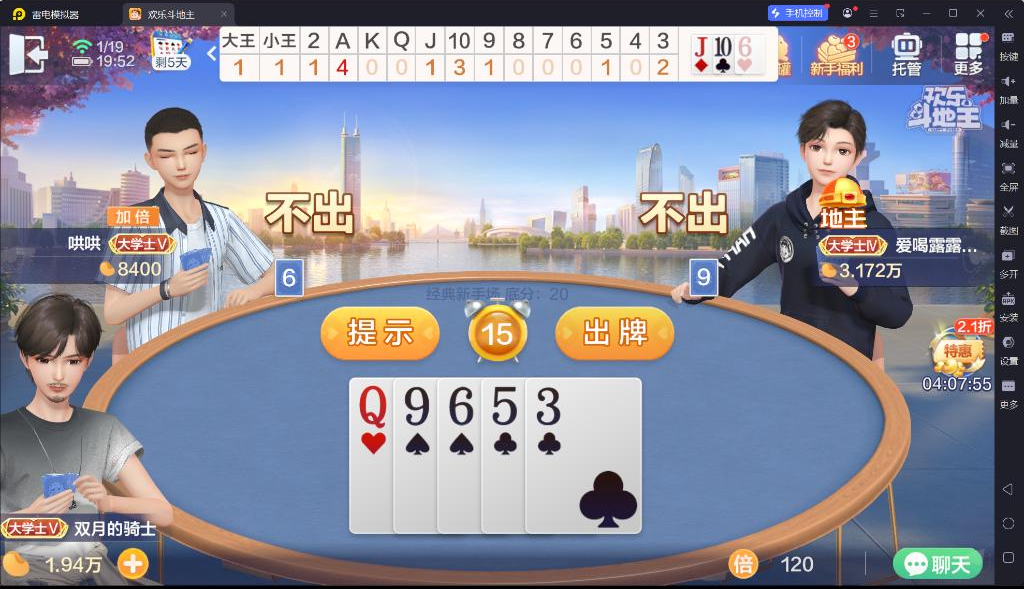J: (692, 36, 709, 58)
Q: (356, 383, 387, 429)
five: (489, 383, 519, 429)
nine: (402, 385, 430, 428)
six: (445, 385, 475, 428), (737, 36, 754, 58)
ten: (713, 36, 733, 58)
three: (533, 384, 562, 428)
